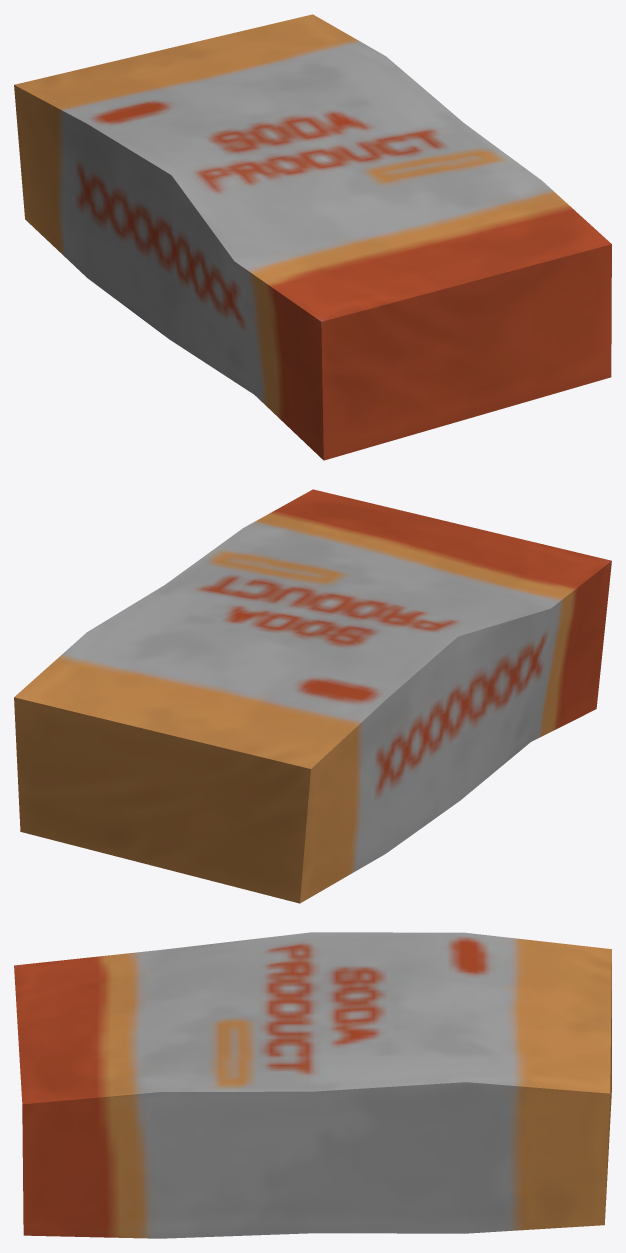
File: Pfb_Bags.fbx
3 views of the same model, one above another, from view 1: azimuth 30°, elevation 25°; view 2: azimuth 150°, elevation 25°; view 3: azimuth 270°, elevation 25° (orthographic).
Parts seen in each view (by area): view 1: Mat_Bags_01_1; view 2: Mat_Bags_01_1; view 3: Mat_Bags_01_1.
Boxes of the visible parts, left/top/right/bottom form: Mat_Bags_01_1: left=14, top=14, right=611, bottom=460; Mat_Bags_01_1: left=14, top=489, right=611, bottom=903; Mat_Bags_01_1: left=14, top=932, right=611, bottom=1238.
Size of the model in its own units: 0.5405 by 0.3032 by 0.9257.
Materials: 1 (1 with a texture image).
